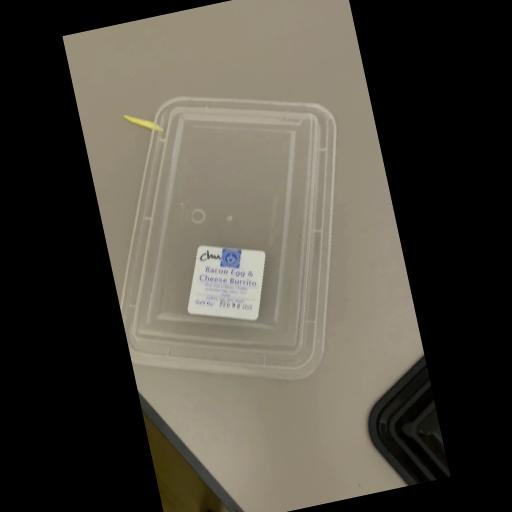rigid_plastic_lid: (79, 66, 386, 410)
